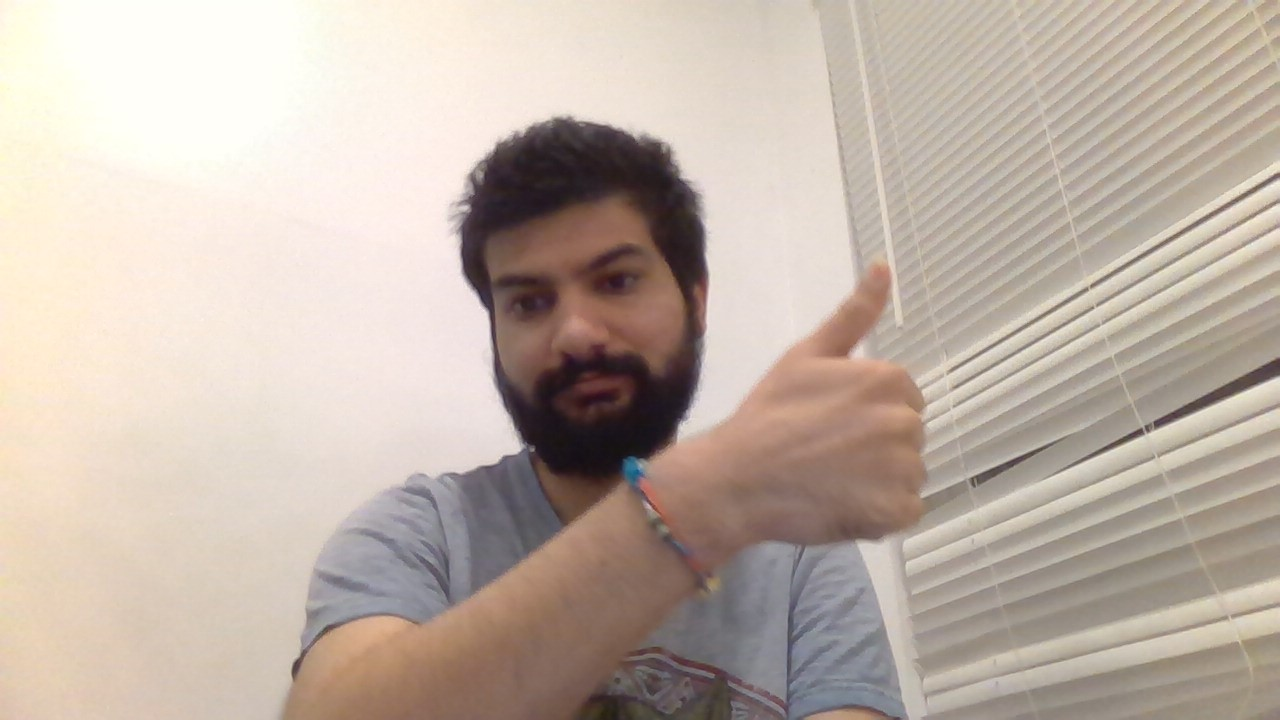up: (784, 255, 936, 540)
